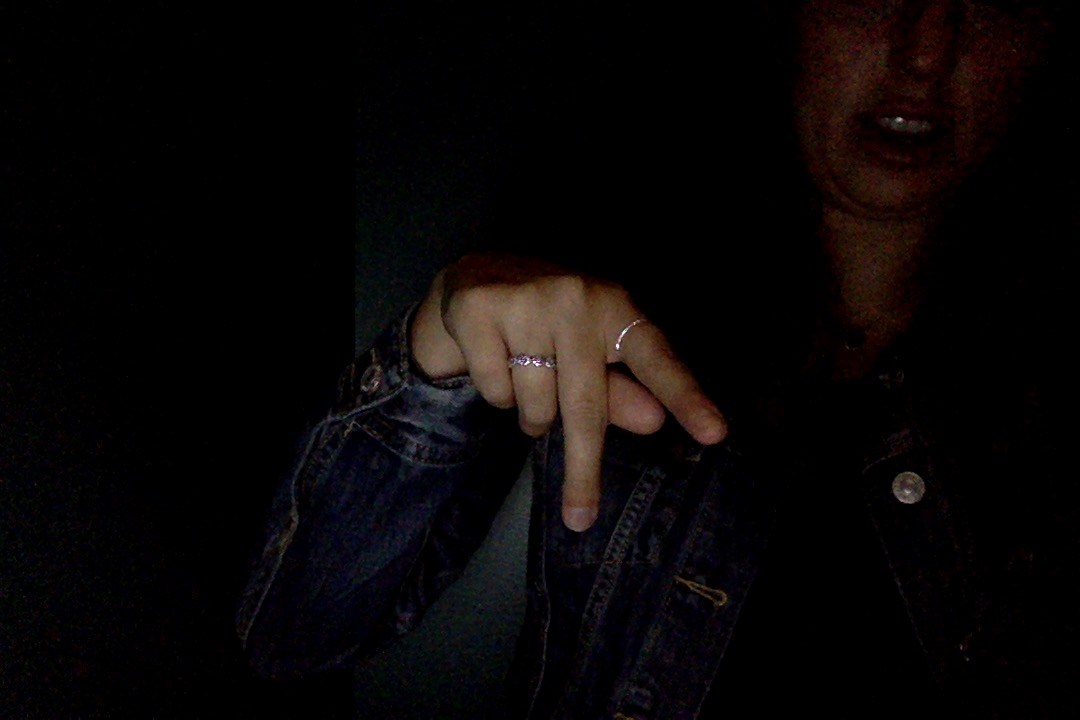p: (335, 196, 735, 546)
